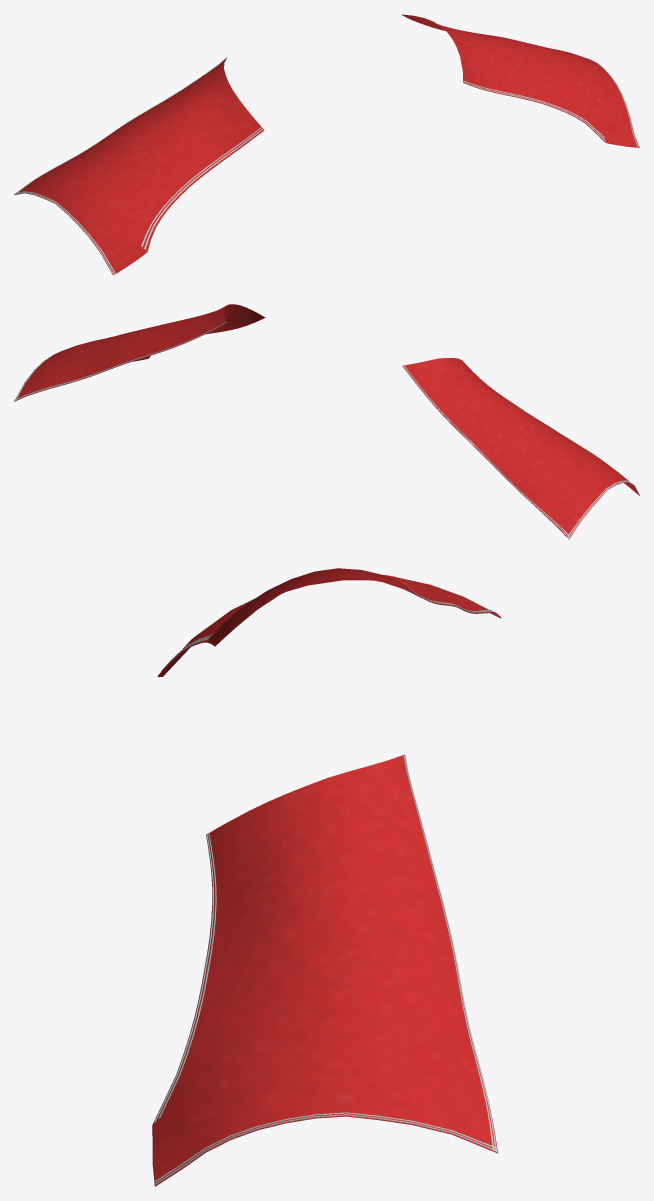
Rendered from Jac_Decor_Top_V2.glb.
3 renders of one model, top to bottom at view 1: azimuth 30°, elevation 25°; view 2: azimuth 150°, elevation 25°; view 3: azimuth 270°, elevation 25°, orthographic. The views are drawn at different scales.
Parts seen in each view (by area): view 1: Jac_Decor_TOP1.001, Jac_Rope_Decor_TOP1.001; view 2: Jac_Decor_TOP1.001, Jac_Rope_Decor_TOP1.001; view 3: Jac_Decor_TOP1.001, Jac_Rope_Decor_TOP1.001.
Boxes of the visible parts, <box> form: Jac_Decor_TOP1.001: <box>14,14,639,275</box>; Jac_Rope_Decor_TOP1.001: <box>14,14,639,275</box>; Jac_Decor_TOP1.001: <box>14,304,639,539</box>; Jac_Rope_Decor_TOP1.001: <box>14,321,639,538</box>; Jac_Decor_TOP1.001: <box>152,568,500,1186</box>; Jac_Rope_Decor_TOP1.001: <box>154,583,501,1185</box>.
Size of the model in its own units: 0.7847 by 0.1786 by 0.2139.
Materials: 2 (2 with a texture image).
